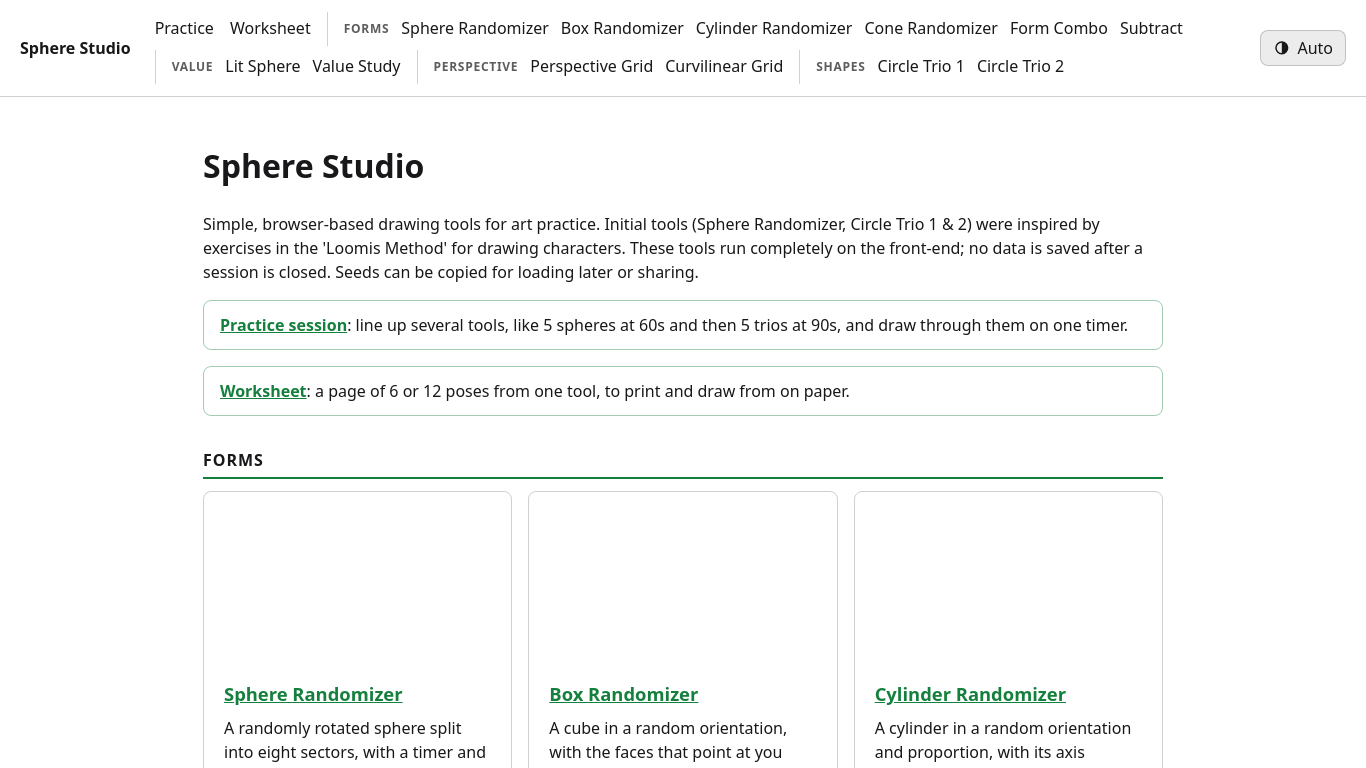
Test: theme button › steps through Light, Dark and back to Auto, and remembers the choice
Step 1. Click the button with class "theme-toggle" → (1303, 48), box [1260,30,1346,66]
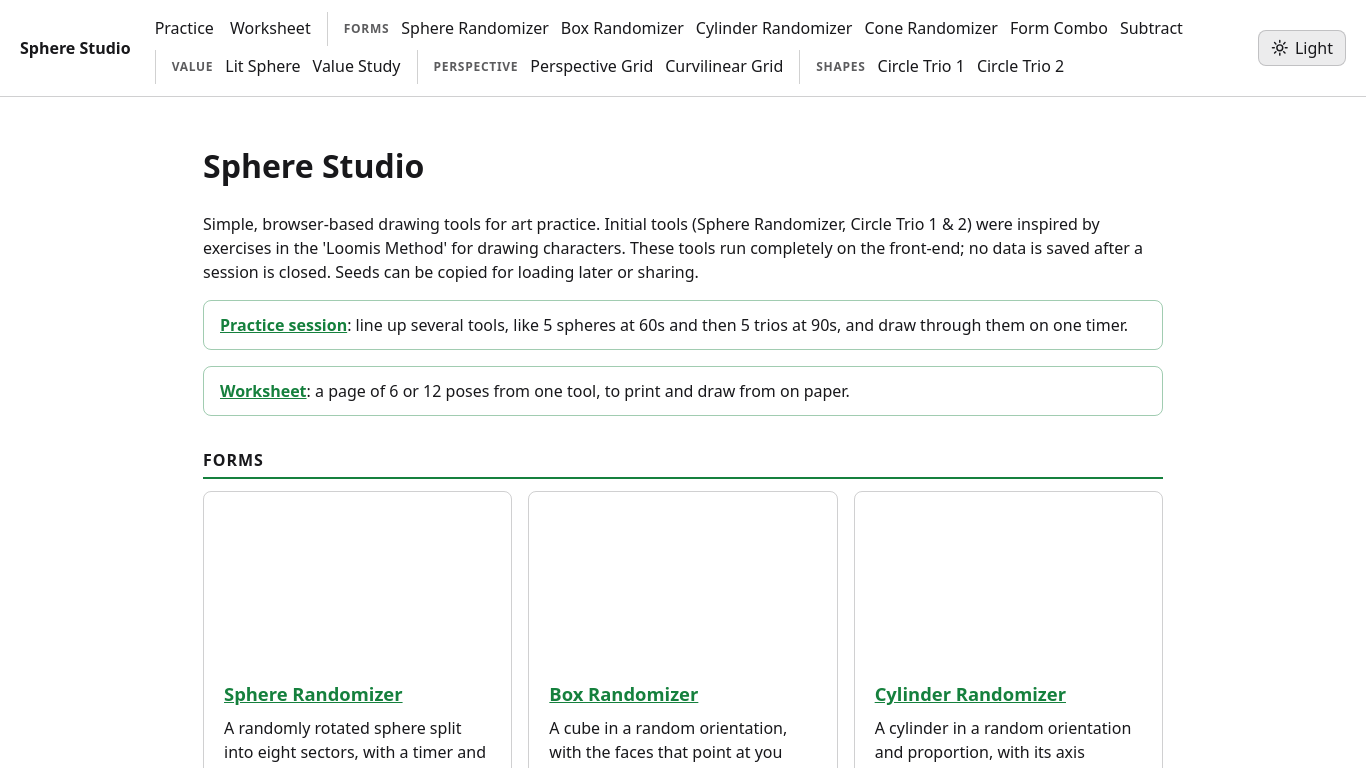
Expected: the button with class "theme-toggle" reads "Light"
Step 2. Click the button with class "theme-toggle" → (1302, 48), box [1258,30,1346,66]
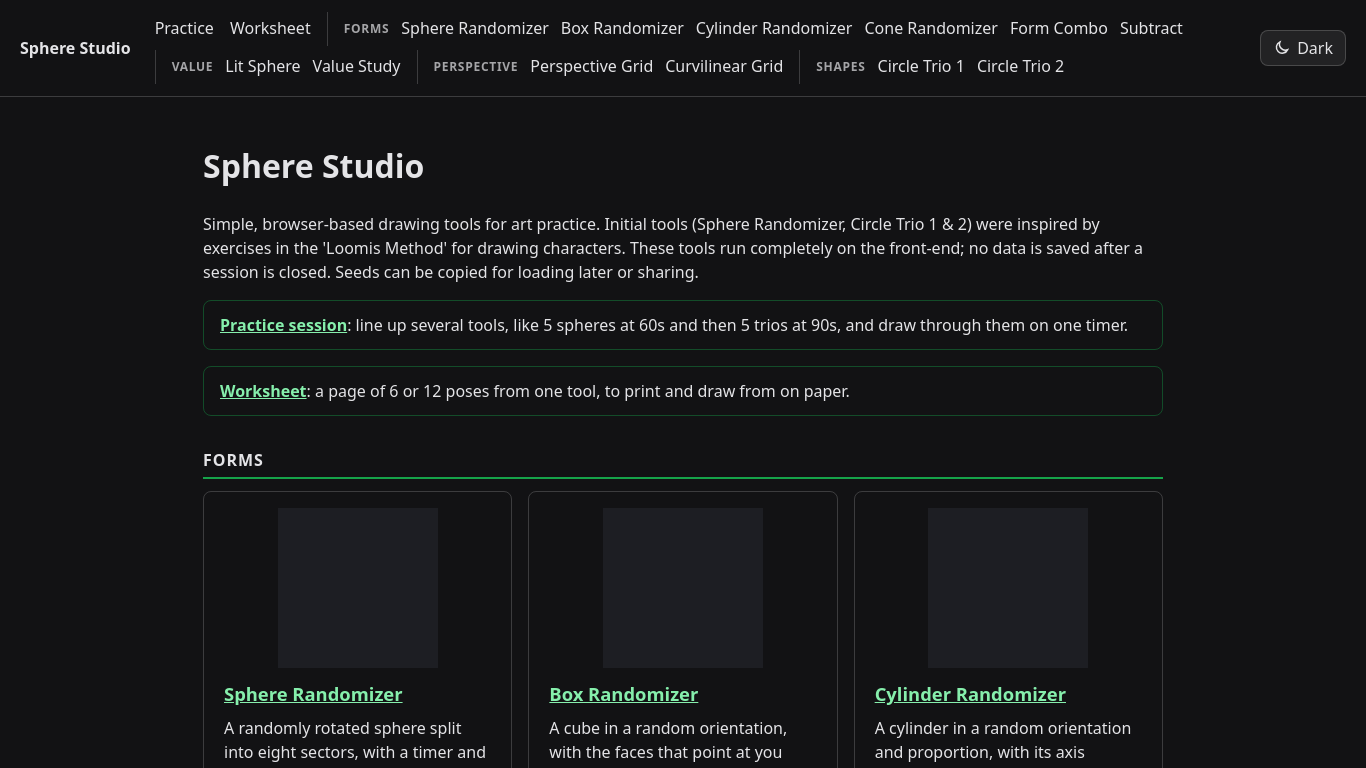
Expected: the button with class "theme-toggle" reads "Dark"
Step 3. Click the button with class "theme-toggle" → (1303, 48), box [1260,30,1346,66]
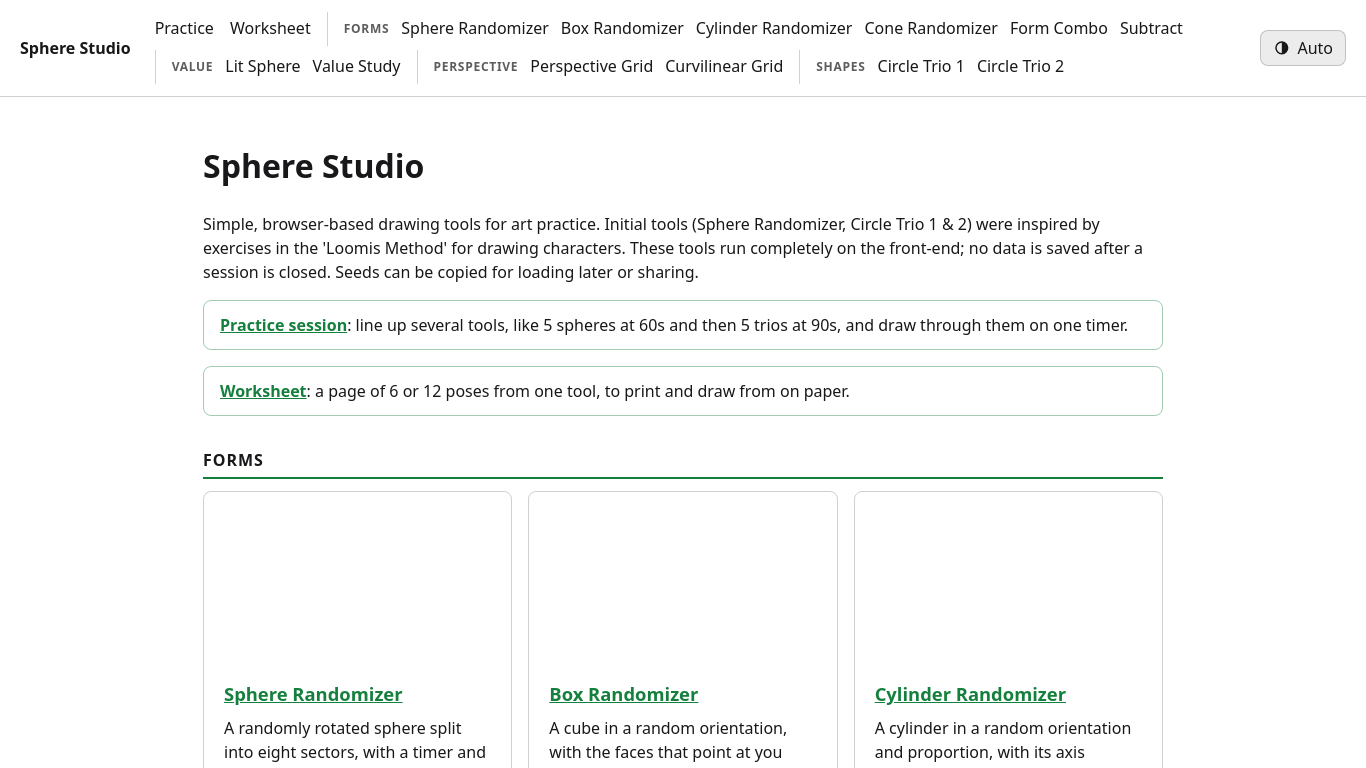
Expected: the button with class "theme-toggle" reads "Auto", [1260,30,1346,66]
